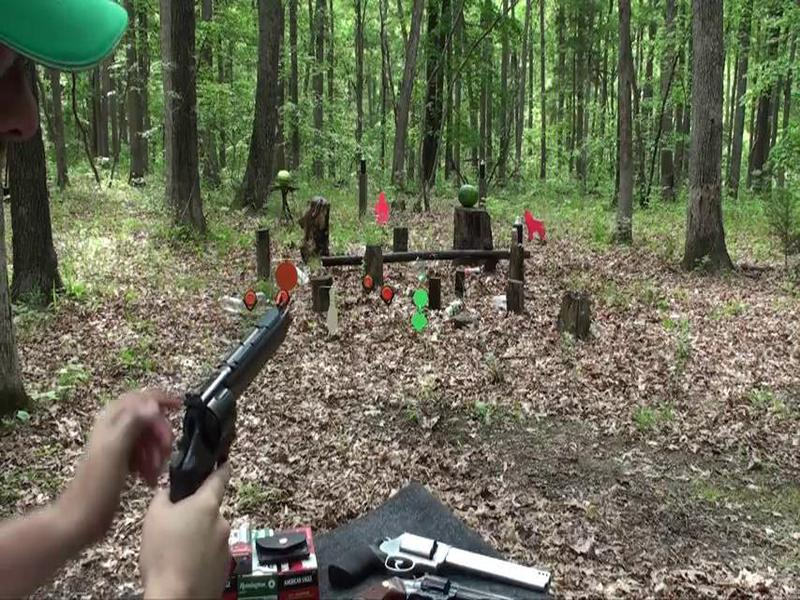Revolver: (166, 288, 309, 520)
